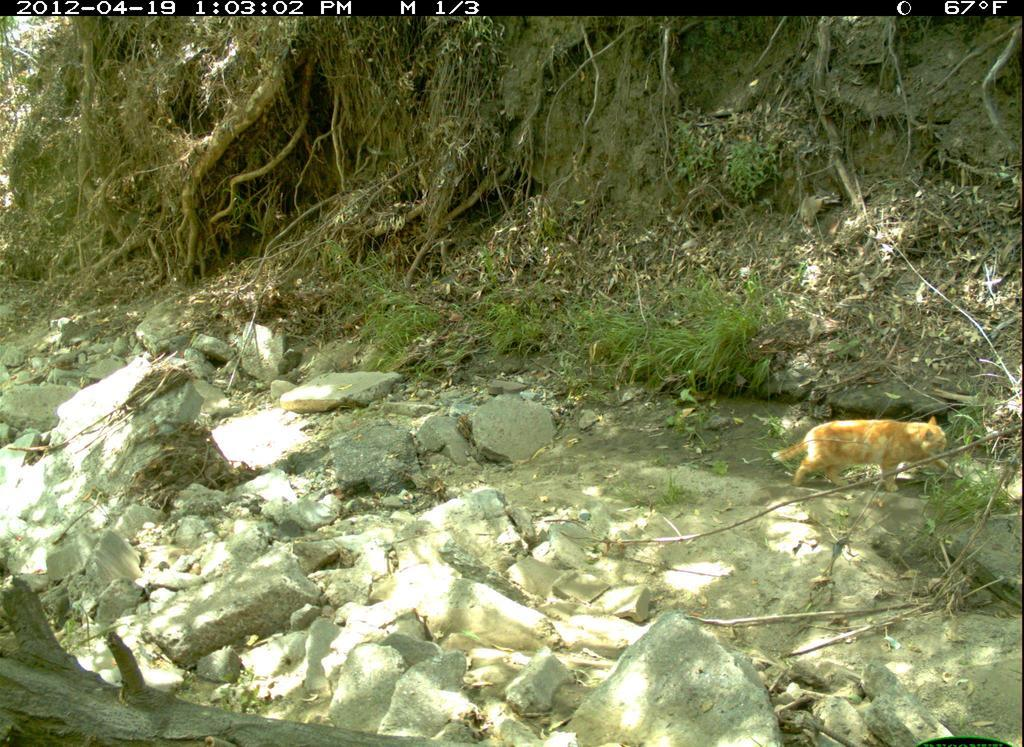cat: (784, 387, 963, 514)
